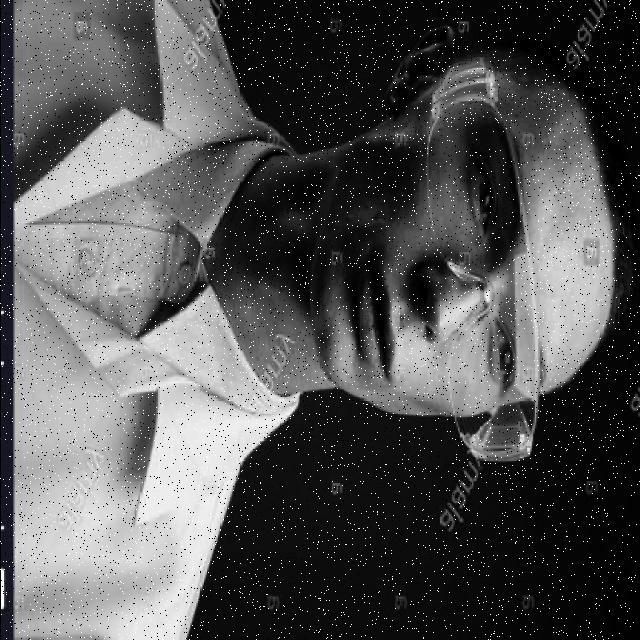Goggles: (422, 40, 551, 472)
